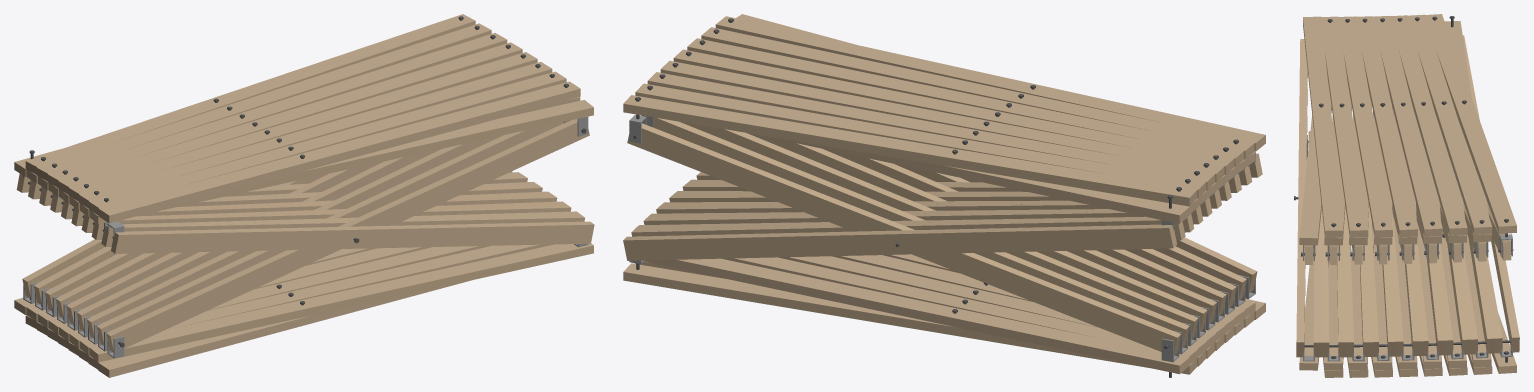
Rendered from LinkageLab_Export_1769825752423.gltf.
3 renders of one model, left to right at view 1: azimuth 30°, elevation 25°; view 2: azimuth 150°, elevation 25°; view 3: azimuth 270°, elevation 25°, orthographic. The views are drawn at different scales.
Visible parts, largest first — view 1: HBeam_Top_0 (×8), HBeam_Bottom_1 (×5), VBeam_2 (×3), VBeam_3 (×3), VBeam_0 (×3), VBeam_1 (×3), HBeam_Top_1, VBeam_4 (×2), HBeam_Bottom_0, VBeam_5 (×2), VBeam_6 (×2), VBeam_7; view 2: HBeam_Top_0 (×8), HBeam_Bottom_1 (×5), VBeam_7 (×3), VBeam_10, VBeam_6 (×3), VBeam_5 (×2), HBeam_Bottom_0, VBeam_4 (×2), HBeam_Top_1 (×2), VBeam_3 (×2), VBeam_2 (×2), VBeam_9 (+3 smaller); view 3: HBeam_Top_0 (×8), HBeam_Bottom_1 (×8), HBeam_Top_1 (×8), VBeam_3 (×3), VBeam_4 (×3), VBeam_7 (×3), VBeam_5 (×3), VBeam_1 (×2), VBeam_6 (×3), VBeam_0 (×2), HBeam_Bottom_0 (×6), VBeam_2 (×3) (+3 smaller).
Boxes of the visible parts, x1=… form: HBeam_Top_0 (×8): x1=25, y1=14, x2=580, y2=223; HBeam_Bottom_1 (×5): x1=48, y1=243, x2=593, y2=362; VBeam_2 (×3): x1=76, y1=119, x2=589, y2=352; VBeam_3 (×3): x1=66, y1=161, x2=594, y2=324; VBeam_0 (×3): x1=94, y1=122, x2=580, y2=345; VBeam_1 (×3): x1=86, y1=135, x2=584, y2=338; HBeam_Top_1: x1=89, y1=100, x2=593, y2=224; VBeam_4 (×2): x1=55, y1=173, x2=557, y2=318; HBeam_Bottom_0: x1=98, y1=280, x2=469, y2=377; VBeam_5 (×2): x1=45, y1=185, x2=542, y2=311; VBeam_6 (×2): x1=33, y1=175, x2=527, y2=304; VBeam_7: x1=22, y1=239, x2=105, y2=298; HBeam_Top_0 (×8): x1=623, y1=16, x2=1265, y2=206; HBeam_Bottom_1 (×5): x1=644, y1=254, x2=1225, y2=374; VBeam_7 (×3): x1=627, y1=123, x2=1203, y2=355; VBeam_10: x1=623, y1=224, x2=1177, y2=260; VBeam_6 (×3): x1=643, y1=117, x2=1212, y2=347; VBeam_5 (×2): x1=656, y1=121, x2=1200, y2=339; HBeam_Bottom_0: x1=623, y1=263, x2=1197, y2=374; VBeam_4 (×2): x1=669, y1=133, x2=1210, y2=331; HBeam_Top_1 (×2): x1=736, y1=14, x2=1255, y2=223; VBeam_3 (×2): x1=682, y1=148, x2=1219, y2=323; VBeam_2 (×2): x1=895, y1=164, x2=1257, y2=315; VBeam_9: x1=635, y1=216, x2=1185, y2=237; HBeam_Top_0 (×8): x1=1303, y1=14, x2=1516, y2=237; HBeam_Bottom_1 (×8): x1=1299, y1=213, x2=1491, y2=370; HBeam_Top_1 (×8): x1=1299, y1=21, x2=1491, y2=245; VBeam_3 (×3): x1=1296, y1=39, x2=1412, y2=357; VBeam_4 (×3): x1=1360, y1=203, x2=1436, y2=356; VBeam_7 (×3): x1=1427, y1=200, x2=1511, y2=355; VBeam_5 (×3): x1=1373, y1=112, x2=1461, y2=356; VBeam_1 (×2): x1=1313, y1=207, x2=1353, y2=357; VBeam_6 (×3): x1=1392, y1=106, x2=1486, y2=356; VBeam_0 (×2): x1=1320, y1=214, x2=1346, y2=357; HBeam_Bottom_0 (×6): x1=1306, y1=157, x2=1516, y2=377; VBeam_2 (×3): x1=1305, y1=131, x2=1387, y2=356.
Size of the model in its own units: 97.48 by 31.52 by 42.8.
